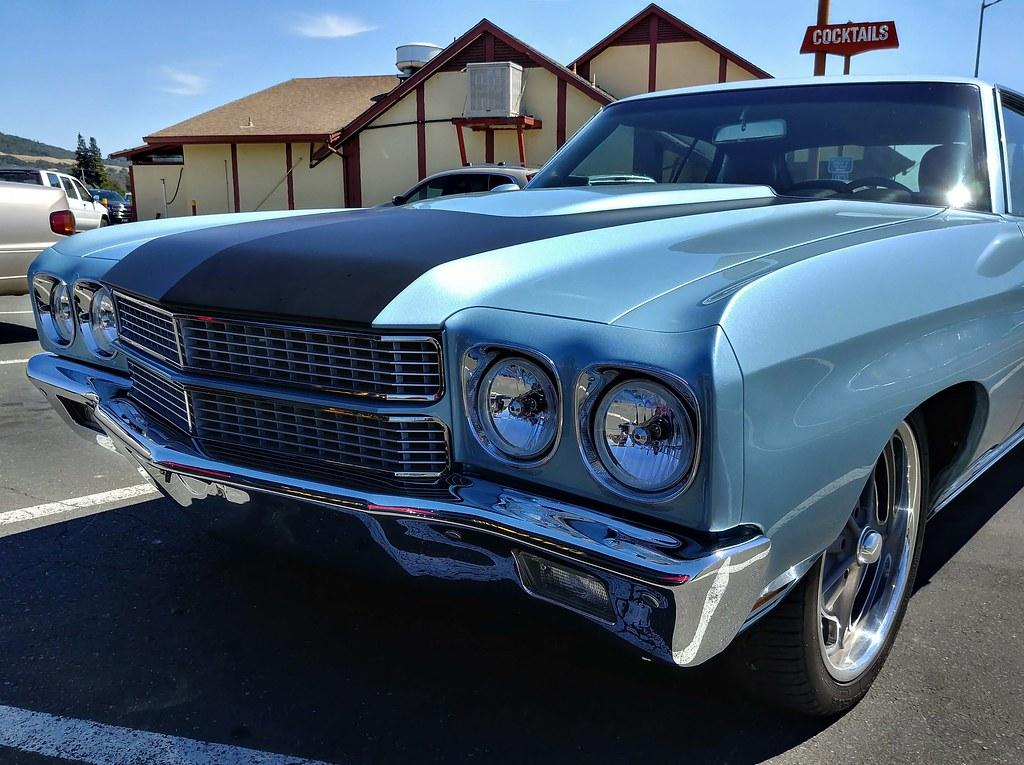car: (25, 75, 1024, 718)
